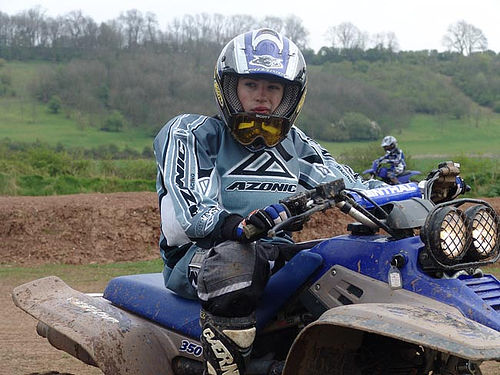without_mask: (220, 37, 307, 142)
